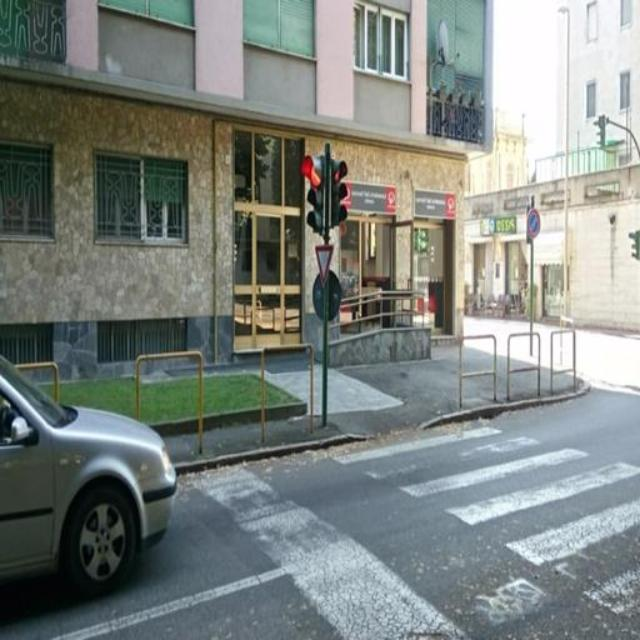sidewalk: (333, 424, 635, 633)
